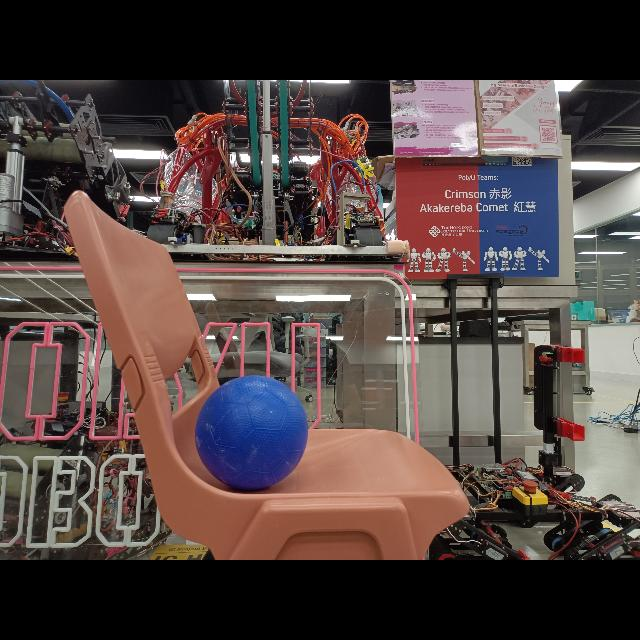B: (195, 375, 308, 493)
